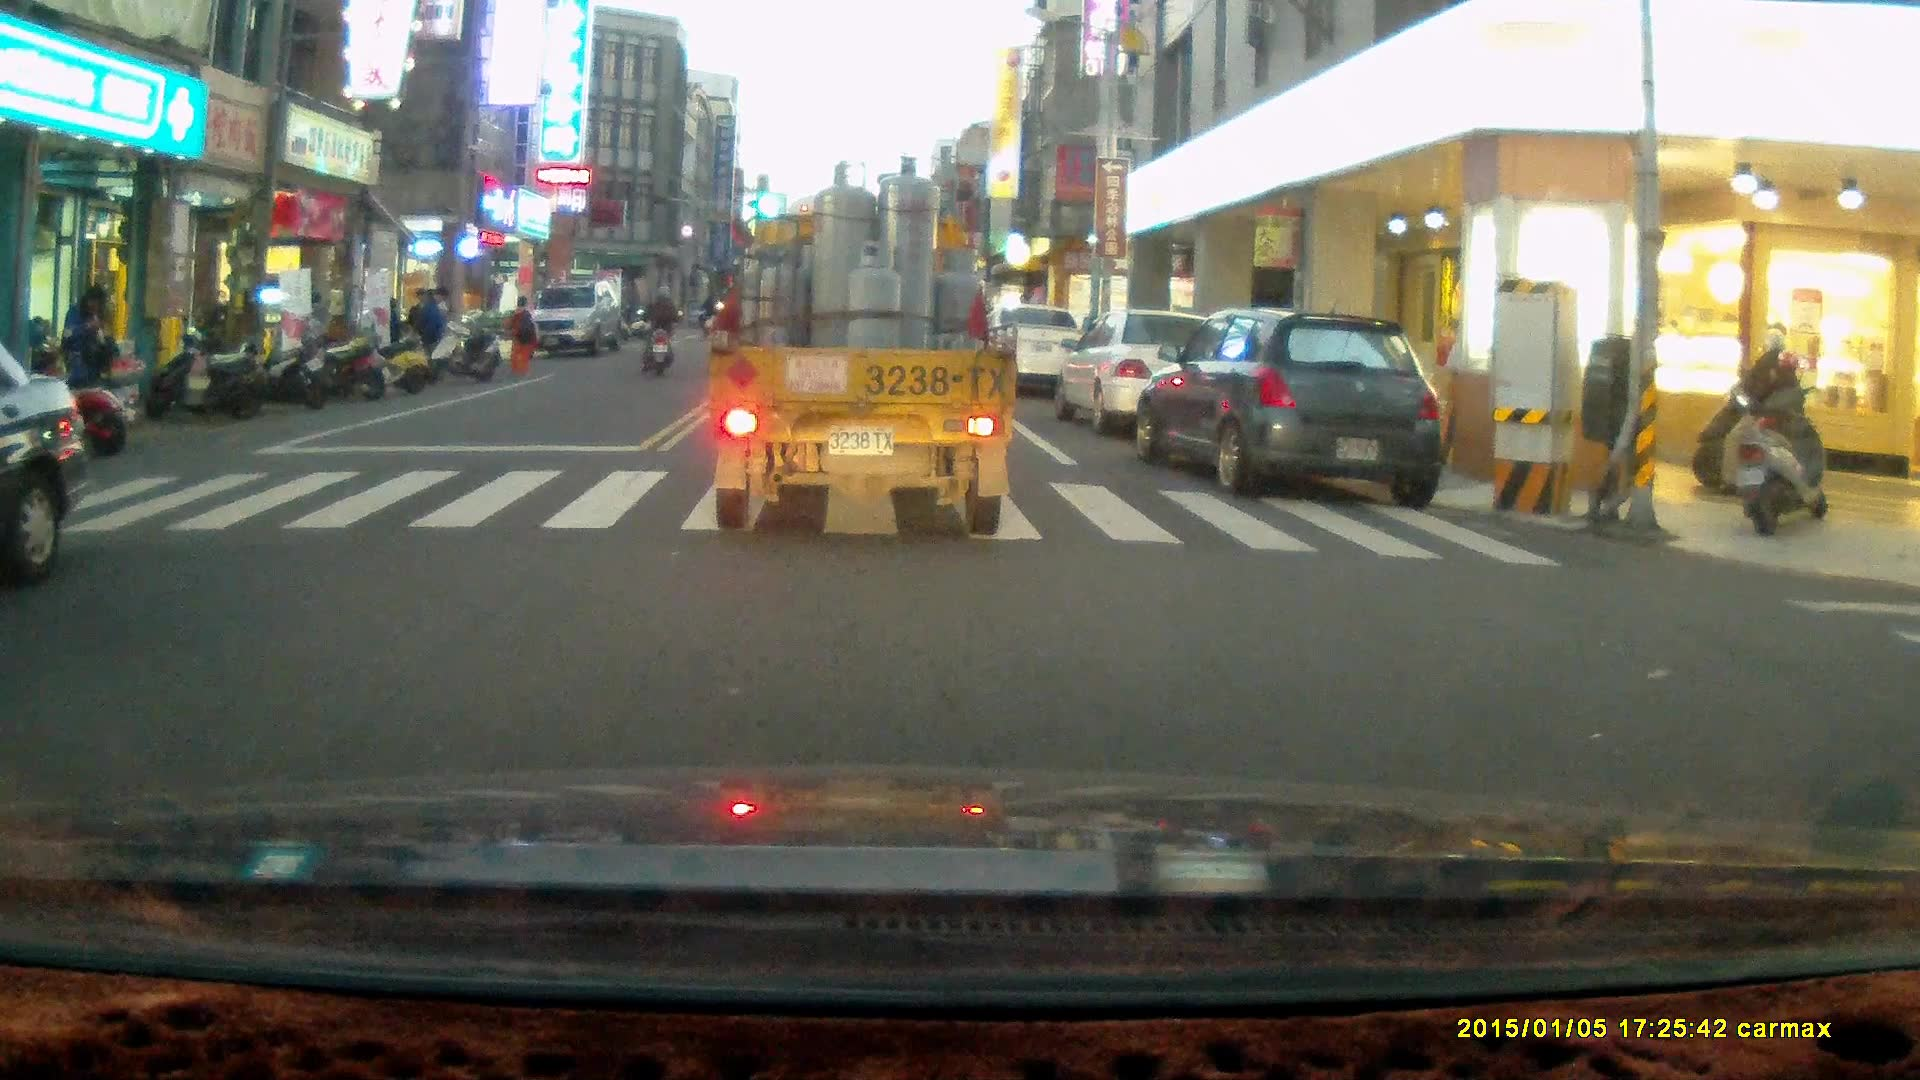pedestrian: (57, 279, 119, 407), (414, 285, 451, 376), (207, 288, 237, 378), (507, 294, 536, 376)
rider: (1689, 328, 1820, 505), (633, 281, 680, 376)
vehicle: (710, 154, 1021, 541), (1135, 309, 1452, 505), (1, 325, 96, 581), (1061, 308, 1244, 433), (977, 305, 1102, 403), (526, 282, 626, 357)
